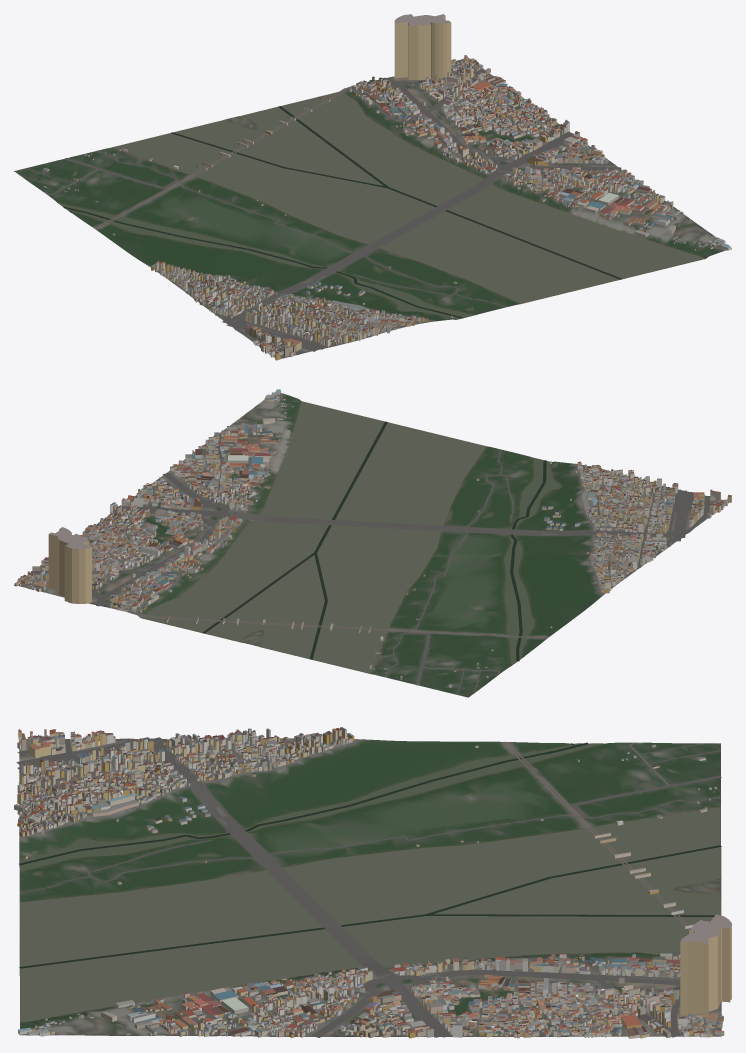
The picture shows the model from 3 angles, top to bottom: view 1: azimuth 30°, elevation 25°; view 2: azimuth 150°, elevation 25°; view 3: azimuth 270°, elevation 25°; orthographic projection. The views are drawn at different scales.
Parts seen in each view (by area): view 1: water, ground, buildings, roads; view 2: water, ground, buildings, roads; view 3: water, ground, buildings, roads.
Part boxes in pixels (x1,y1,x2,y2): water: (59,92,704,319); ground: (14,58,731,358); buildings: (43,14,731,360); roads: (19,58,725,356); water: (143,401,561,673); ground: (14,392,728,697); buildings: (14,389,731,687); roads: (14,393,728,694); water: (19,742,721,1022); ground: (19,738,721,1036); buildings: (14,727,731,1038); roads: (16,737,721,1037).
Size of the model in its own units: 1417 by 171 by 1434.
